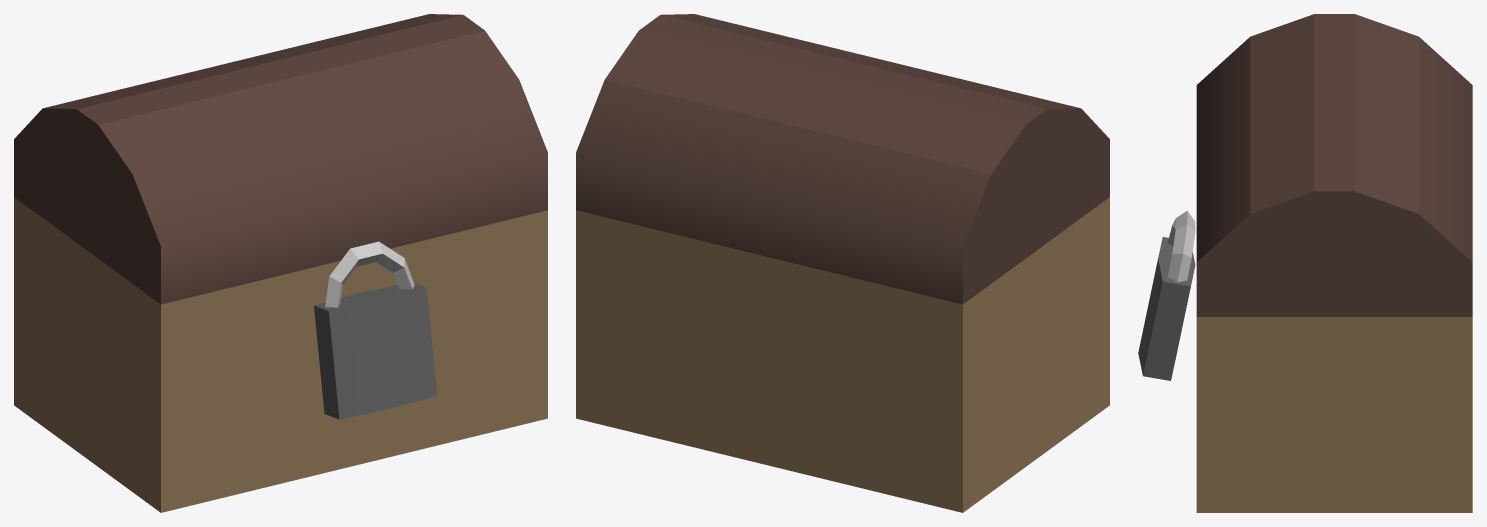
File: ChestSplit.fbx
3 views of the same model, side by side, from view 1: azimuth 30°, elevation 25°; view 2: azimuth 150°, elevation 25°; view 3: azimuth 270°, elevation 25° (orthographic). The views are drawn at different scales.
Visible parts, largest first — view 1: Lid, Chest2, Chest4, padlock; view 2: Lid, Chest3, Chest4; view 3: Lid, Chest, padlock.
Boxes of the visible parts, box(x1,y1,x2,y2) form: Lid: box(14, 14, 547, 304); Chest2: box(161, 210, 547, 512); Chest4: box(14, 197, 160, 512); padlock: box(314, 241, 437, 419); Lid: box(576, 14, 1109, 304); Chest3: box(576, 210, 962, 512); Chest4: box(963, 197, 1109, 512); Lid: box(1196, 14, 1472, 316); Chest: box(1196, 317, 1472, 512); padlock: box(1138, 210, 1195, 380).
Size of the model in its own units: 1.52 by 1.28 by 1.21.
Materials: 1 (1 with a texture image).
